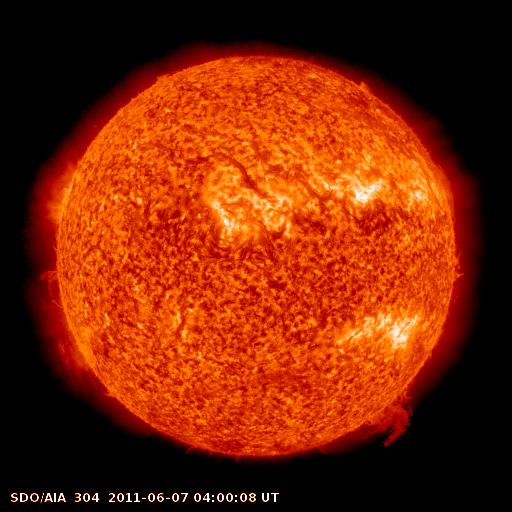prominence: (20, 261, 114, 402), (318, 377, 426, 453), (444, 243, 471, 290)
